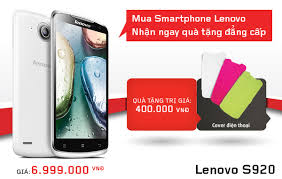lenovo: (49, 8, 111, 161)
